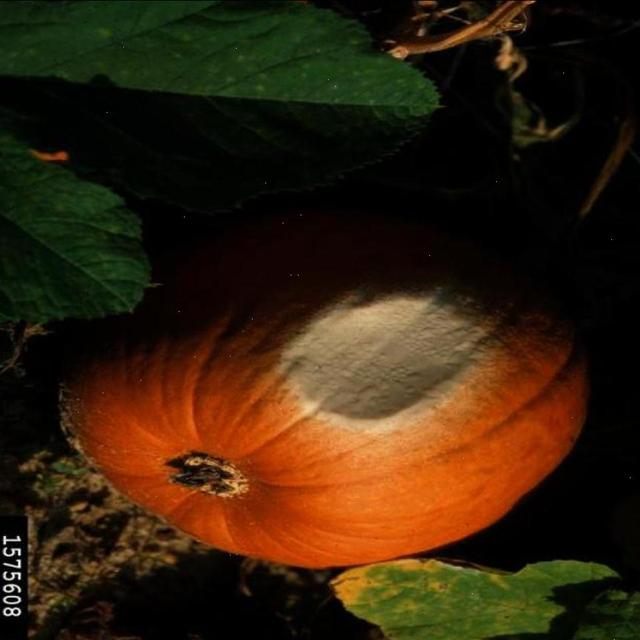Sunscald Fruit: (183, 168, 336, 291)
